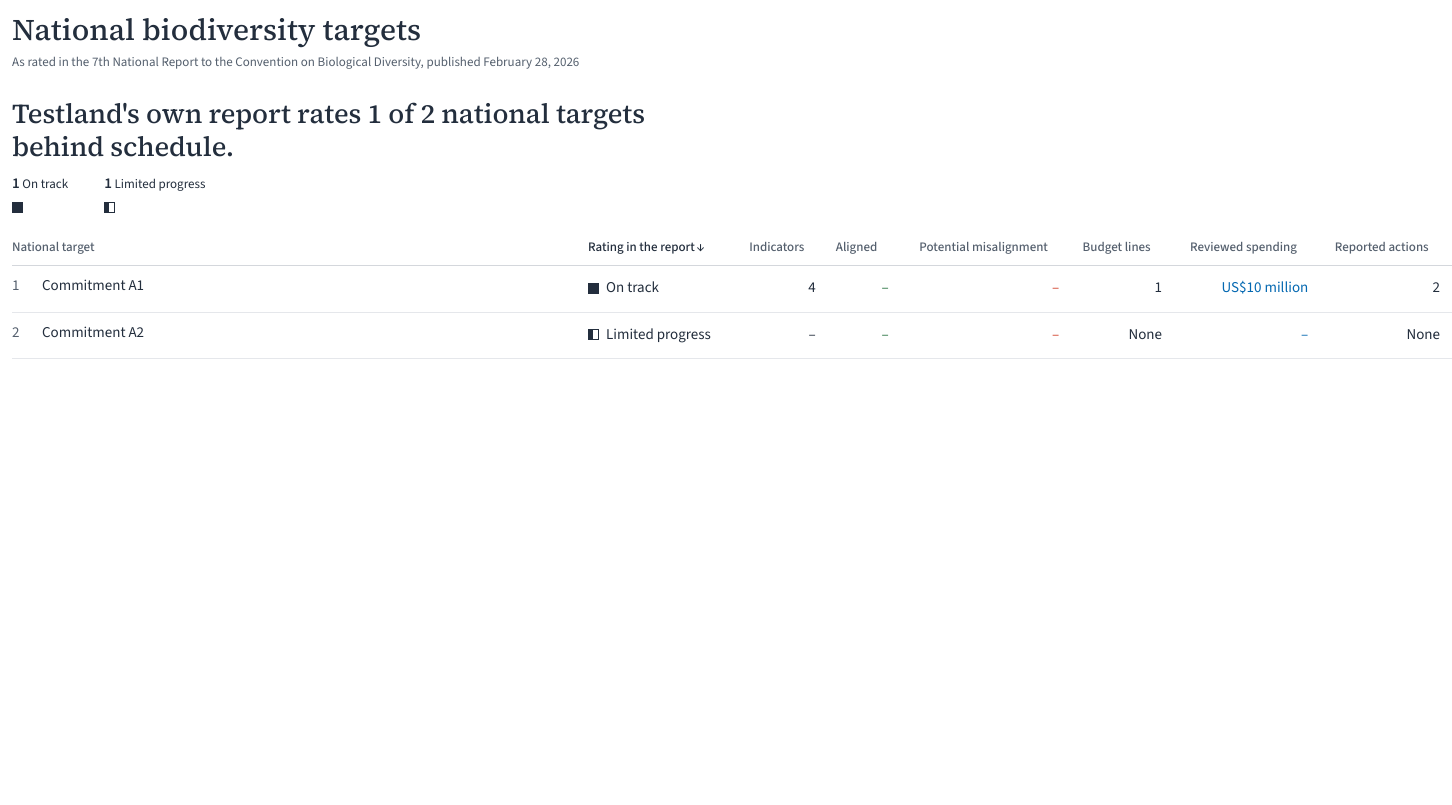
Test: Nr7Section › opens a row on the report's entry beside what the AI reads, with the report's words last
Click the button "1 Commitment A1" at (78,286), box [12,276,144,297]
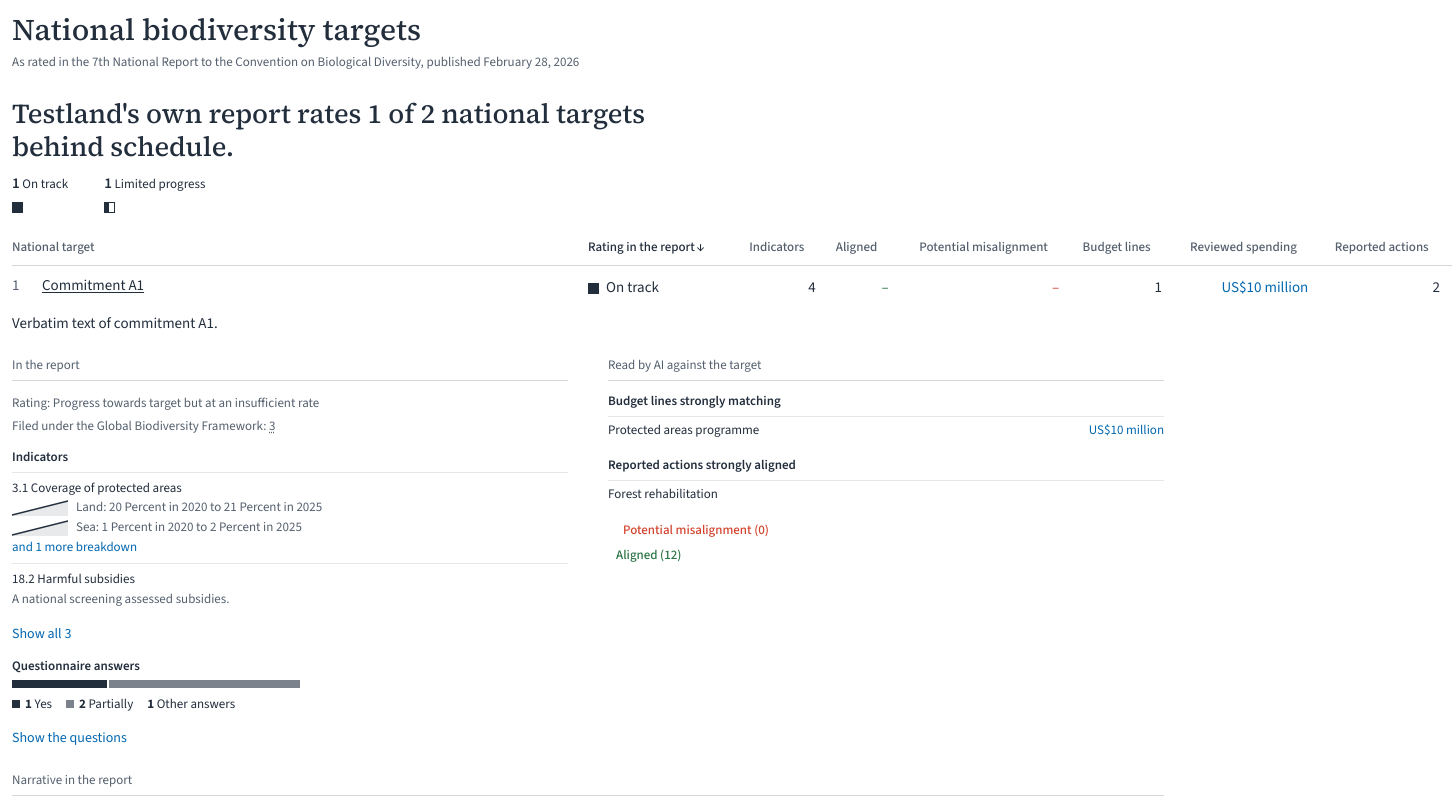
Now the text "3.1 Coverage of protected areas" is shown, box [12,479,182,497]
Now the text "Land: 20 Percent in 2020 to 21 Percent in 2025" is shown, box [76,499,322,517]
Now the text "A national screening assessed subsidies." is shown, box [12,590,230,608]
